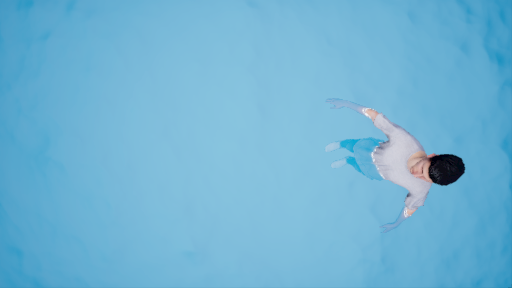person: (320, 101, 457, 235)
